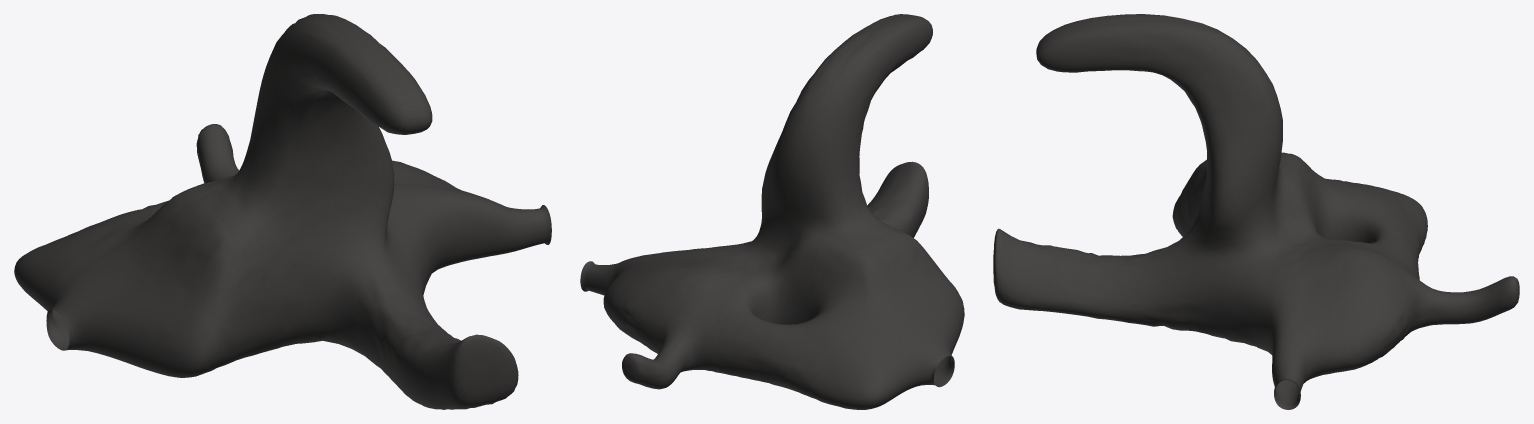
The model's file is CaveP3.fbx.
The picture shows the model from 3 angles, left to right: view 1: azimuth 30°, elevation 25°; view 2: azimuth 150°, elevation 25°; view 3: azimuth 270°, elevation 25°; orthographic projection. The views are drawn at different scales.
Visible parts, largest first — view 1: CaveP3; view 2: CaveP3; view 3: CaveP3.
Part boxes in pixels (x1,y1,x2,y2): CaveP3: (14,14,551,409); CaveP3: (580,14,964,409); CaveP3: (993,14,1519,409).
Size of the model in its own units: 5149 by 3594 by 6000.
1 material, 1 textured.
